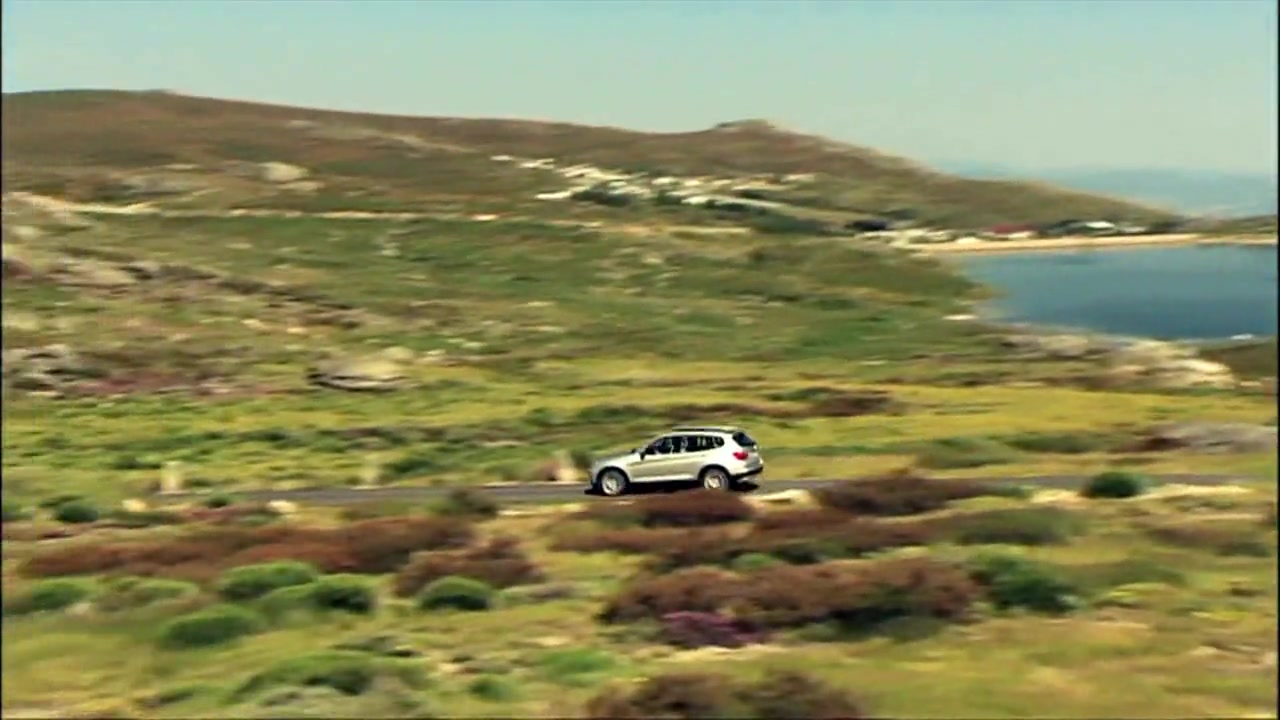car: (587, 424, 767, 497)
